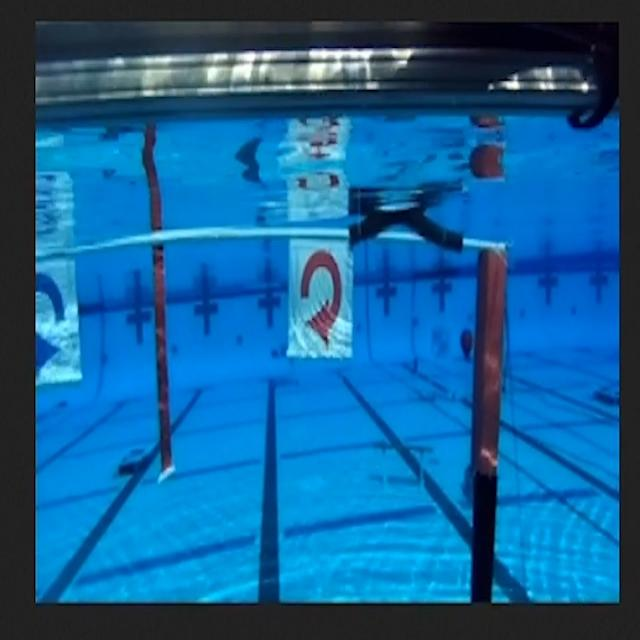Gate: (37, 218, 511, 602)
